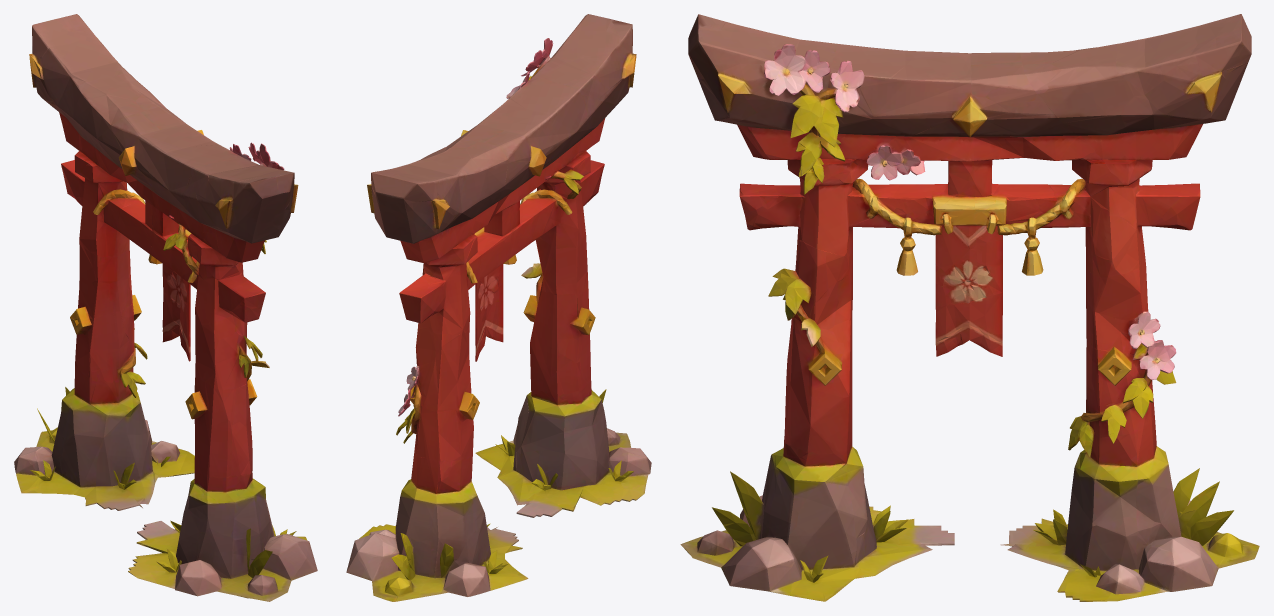
Rendered from KeepSakeEntranceJapanese.glb.
3 renders of one model, left to right at view 1: azimuth 30°, elevation 25°; view 2: azimuth 150°, elevation 25°; view 3: azimuth 270°, elevation 25°, orthographic. The views are drawn at different scales.
Visible parts, largest first — view 1: tripo_node_c64b71c5-767f-43b9-9ccf-059e7b6dbeea; view 2: tripo_node_c64b71c5-767f-43b9-9ccf-059e7b6dbeea; view 3: tripo_node_c64b71c5-767f-43b9-9ccf-059e7b6dbeea.
Part boxes in pixels (x1,y1,x2,y2): tripo_node_c64b71c5-767f-43b9-9ccf-059e7b6dbeea: (14, 14, 317, 601); tripo_node_c64b71c5-767f-43b9-9ccf-059e7b6dbeea: (346, 14, 651, 601); tripo_node_c64b71c5-767f-43b9-9ccf-059e7b6dbeea: (680, 14, 1259, 601).
Bounding box in the file's own units: 0.4145 × 0.977 × 0.9799.
Materials: 1 (1 with a texture image).
